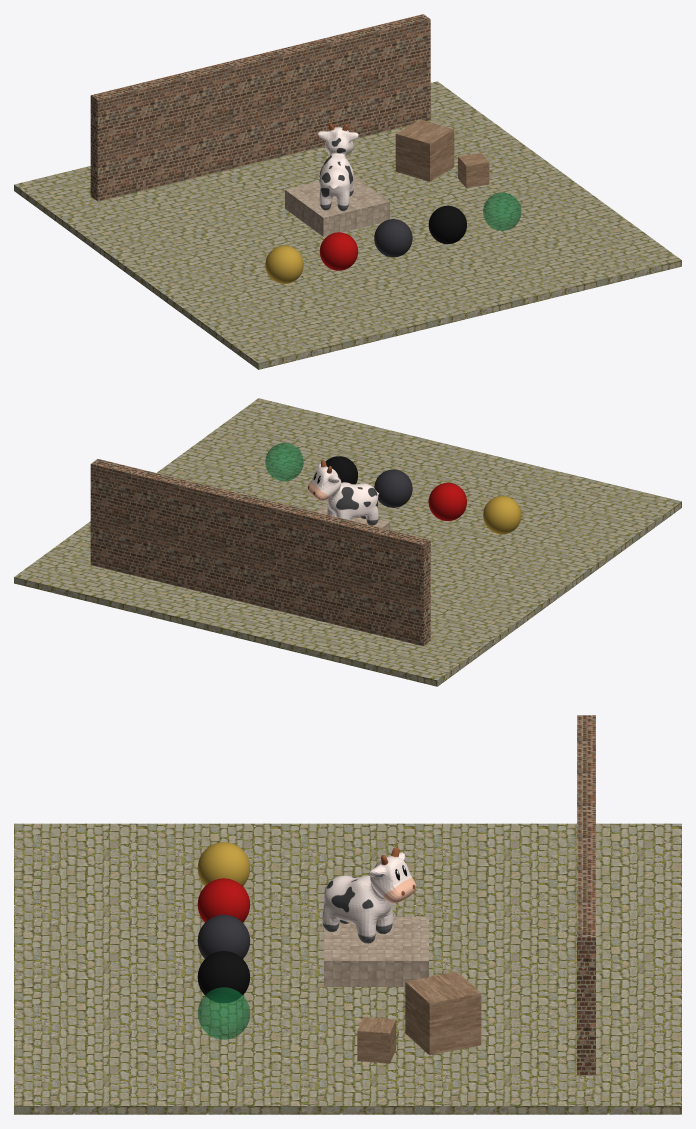
File: gallery.obj
3 views of the same model, one above another, from view 1: azimuth 30°, elevation 25°; view 2: azimuth 150°, elevation 25°; view 3: azimuth 270°, elevation 25° (orthographic). The views are drawn at different scales.
Parts seen in each view (by area): view 1: floor, back_wall, pedestal, crate, spot, sphere_chrome, sphere_gold, sphere_rubber, sphere_plastic, sphere_glass, crate_small; view 2: floor, back_wall, spot, sphere_gold, sphere_plastic, sphere_glass, sphere_chrome, sphere_rubber; view 3: floor, back_wall, pedestal, crate, spot, sphere_rubber, sphere_glass, sphere_plastic, sphere_gold, sphere_chrome, crate_small.
Part boxes in pixels (x1=…): floor: x1=14, y1=81, x2=681, y2=369; back_wall: x1=90, y1=14, x2=430, y2=201; pedestal: x1=285, y1=175, x2=389, y2=236; crate: x1=395, y1=119, x2=454, y2=181; spot: x1=318, y1=123, x2=358, y2=210; sphere_chrome: x1=374, y1=219, x2=412, y2=257; sphere_gold: x1=265, y1=245, x2=303, y2=283; sphere_rubber: x1=428, y1=205, x2=466, y2=244; sphere_plastic: x1=319, y1=232, x2=357, y2=270; sphere_glass: x1=483, y1=192, x2=521, y2=230; crate_small: x1=458, y1=153, x2=489, y2=187; floor: x1=14, y1=398, x2=681, y2=686; back_wall: x1=90, y1=459, x2=430, y2=646; spot: x1=307, y1=460, x2=378, y2=525; sphere_gold: x1=483, y1=496, x2=521, y2=534; sphere_plastic: x1=428, y1=482, x2=466, y2=520; sphere_glass: x1=265, y1=443, x2=303, y2=481; sphere_chrome: x1=374, y1=469, x2=412, y2=507; sphere_rubber: x1=325, y1=456, x2=357, y2=484; floor: x1=14, y1=823, x2=681, y2=1114; back_wall: x1=577, y1=715, x2=595, y2=1075; pedestal: x1=324, y1=916, x2=428, y2=986; crate: x1=405, y1=971, x2=481, y2=1055; spot: x1=322, y1=847, x2=416, y2=943; sphere_rubber: x1=197, y1=951, x2=250, y2=1002; sphere_glass: x1=197, y1=987, x2=249, y2=1039; sphere_plastic: x1=197, y1=878, x2=250, y2=922; sphere_gold: x1=197, y1=842, x2=250, y2=886; sphere_chrome: x1=197, y1=914, x2=249, y2=958; crate_small: x1=357, y1=1017, x2=395, y2=1063.
Bounding box in the file's own units: 14 × 3.4 × 14.
10 materials, 5 textured.
